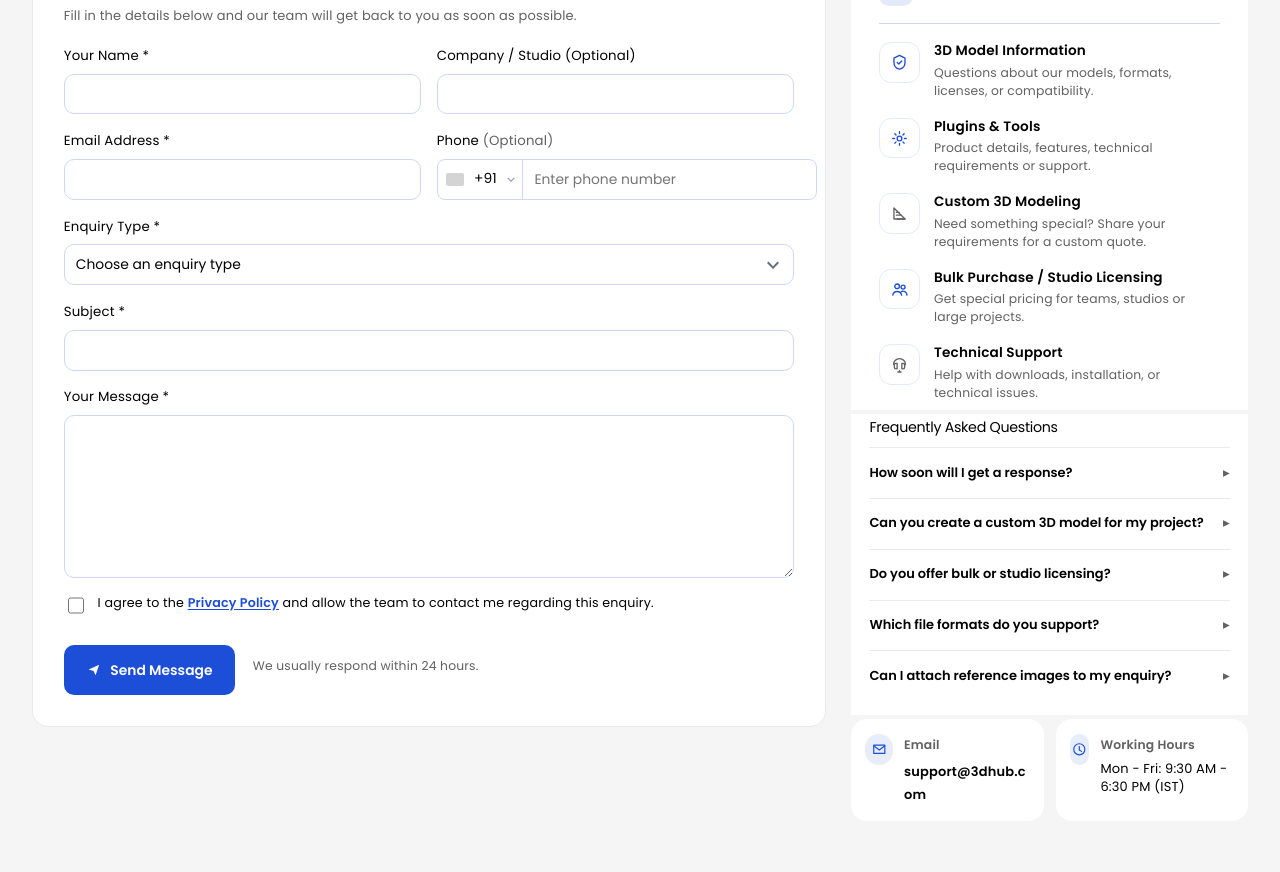
ContactPage › shows validation errors for empty submit
(page scrolled)
Click the button "Send Message" at (149, 670), box [64, 645, 235, 695]
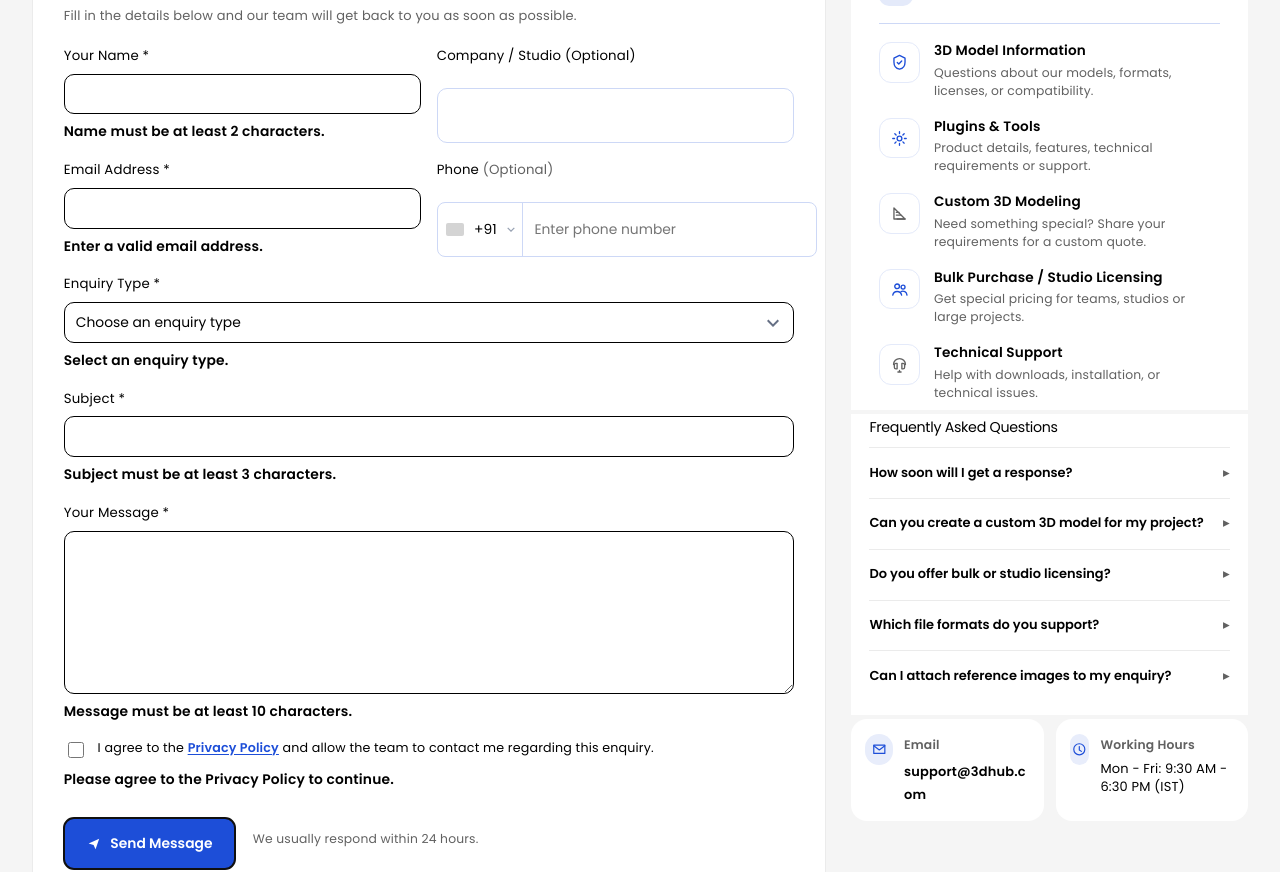
Expected: the text "Name must be at least 2 characters." is shown, [64, 121, 325, 141]
Expected: the text "Select an enquiry type." is shown, [64, 350, 228, 370]
Expected: the text "Please agree to the Privacy Policy to continue." is shown, [64, 769, 394, 789]
